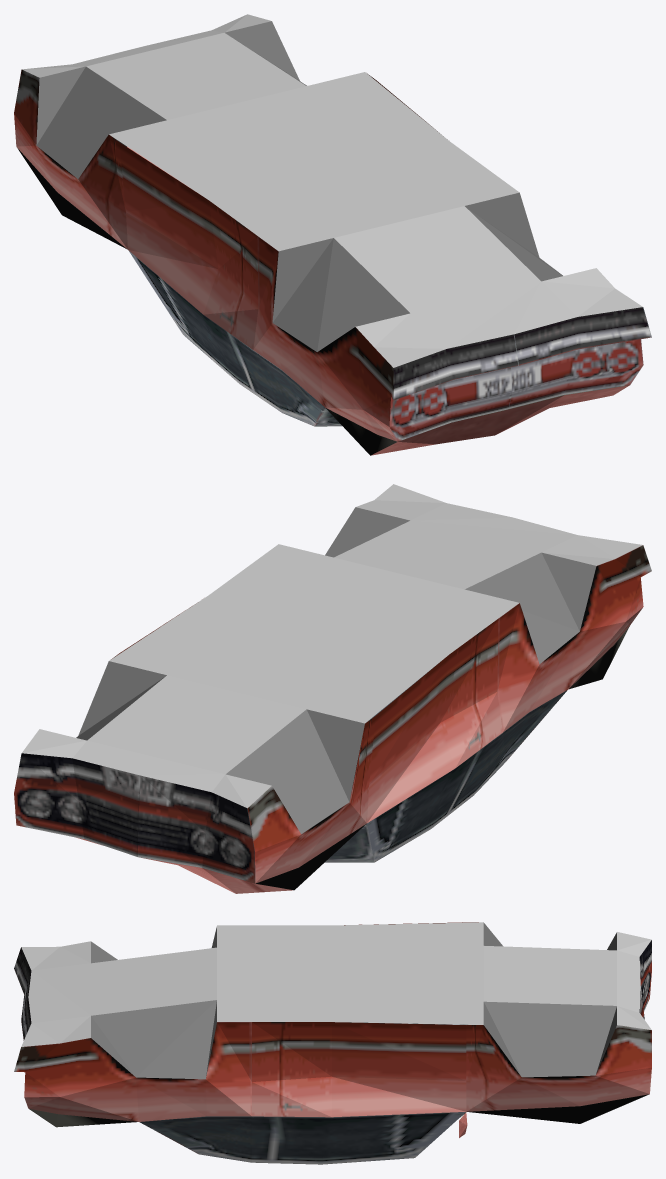
The model's file is RIO_model3_damaged.obj.
3 renders of one model, top to bottom at view 1: azimuth 30°, elevation 25°; view 2: azimuth 150°, elevation 25°; view 3: azimuth 270°, elevation 25°, orthographic. The views are drawn at different scales.
Visible parts, largest first — view 1: RIO_model3_damaged; view 2: RIO_model3_damaged; view 3: RIO_model3_damaged.
Part boxes in pixels (<box>): RIO_model3_damaged: <box>14,14,651,455</box>; RIO_model3_damaged: <box>14,484,651,893</box>; RIO_model3_damaged: <box>14,922,651,1164</box>.
Size of the model in its own units: 256 by 170 by 622.
